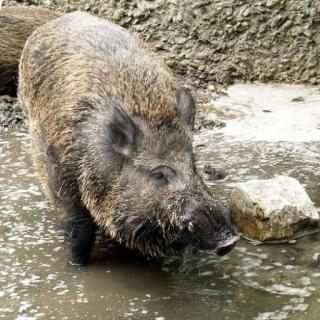Pig: (0, 14, 255, 310)
